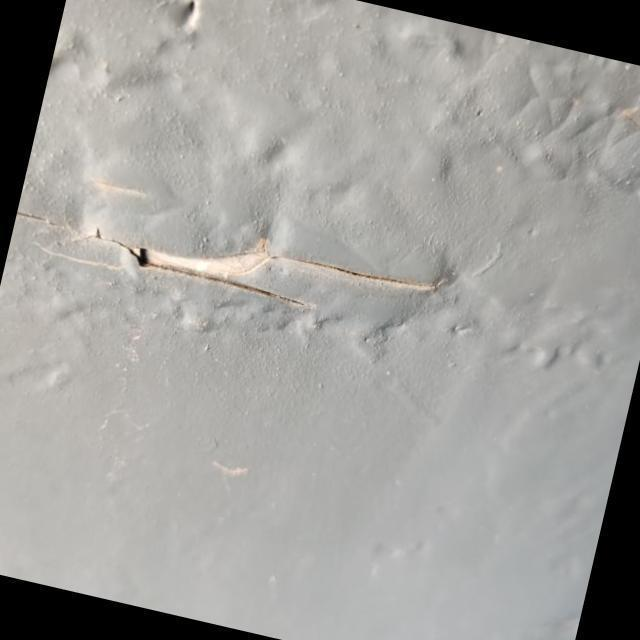Rupture: (62, 180, 464, 363)
